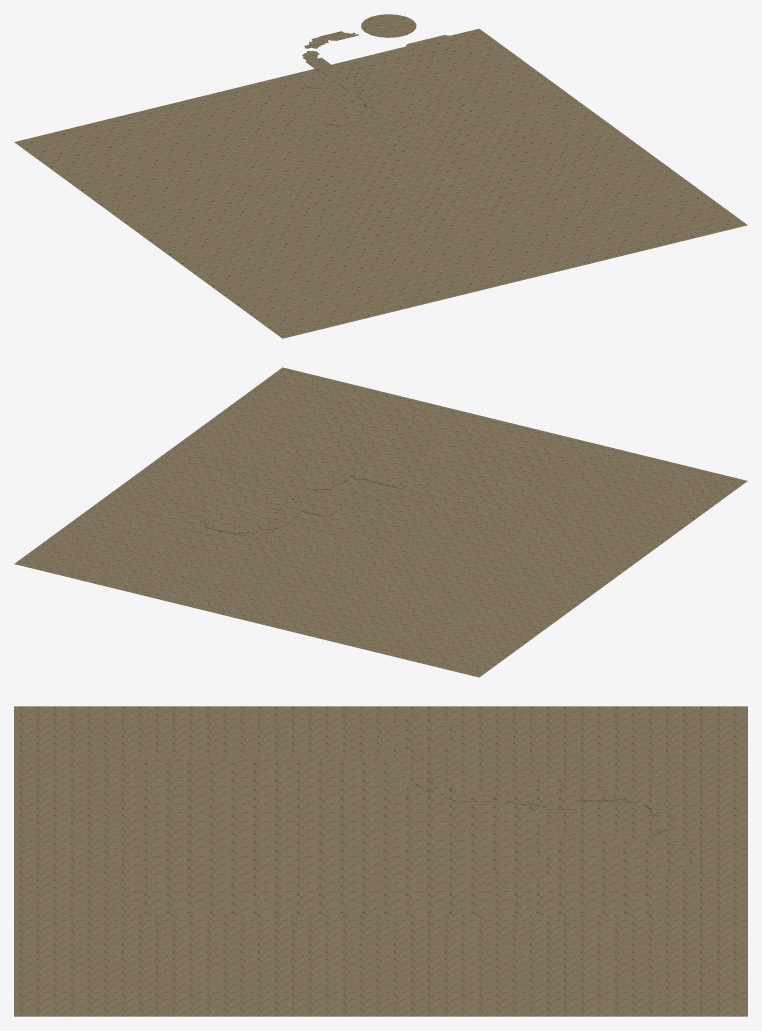
File: bfcs_02.FBX
3 renders of one model, top to bottom at view 1: azimuth 30°, elevation 25°; view 2: azimuth 150°, elevation 25°; view 3: azimuth 270°, elevation 25°, orthographic. The views are drawn at different scales.
Parts seen in each view (by area): view 1: bfcs_02; view 2: bfcs_02; view 3: bfcs_02.
Boxes of the visible parts, left/top/right/bottom form: bfcs_02: left=14, top=14, right=747, bottom=338; bfcs_02: left=14, top=367, right=747, bottom=677; bfcs_02: left=14, top=706, right=747, bottom=1016.
Size of the model in its own units: 5000 by 717 by 5000.
